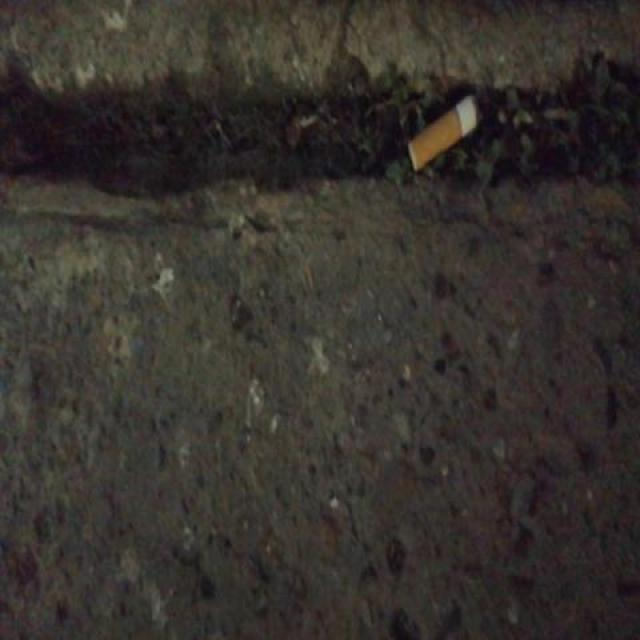non-organic waste: (404, 90, 484, 178)
